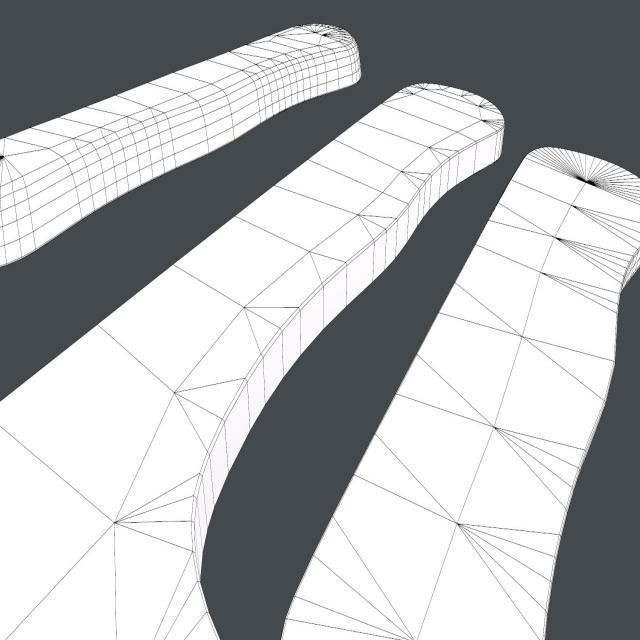cleaver: (0, 0, 361, 276)
